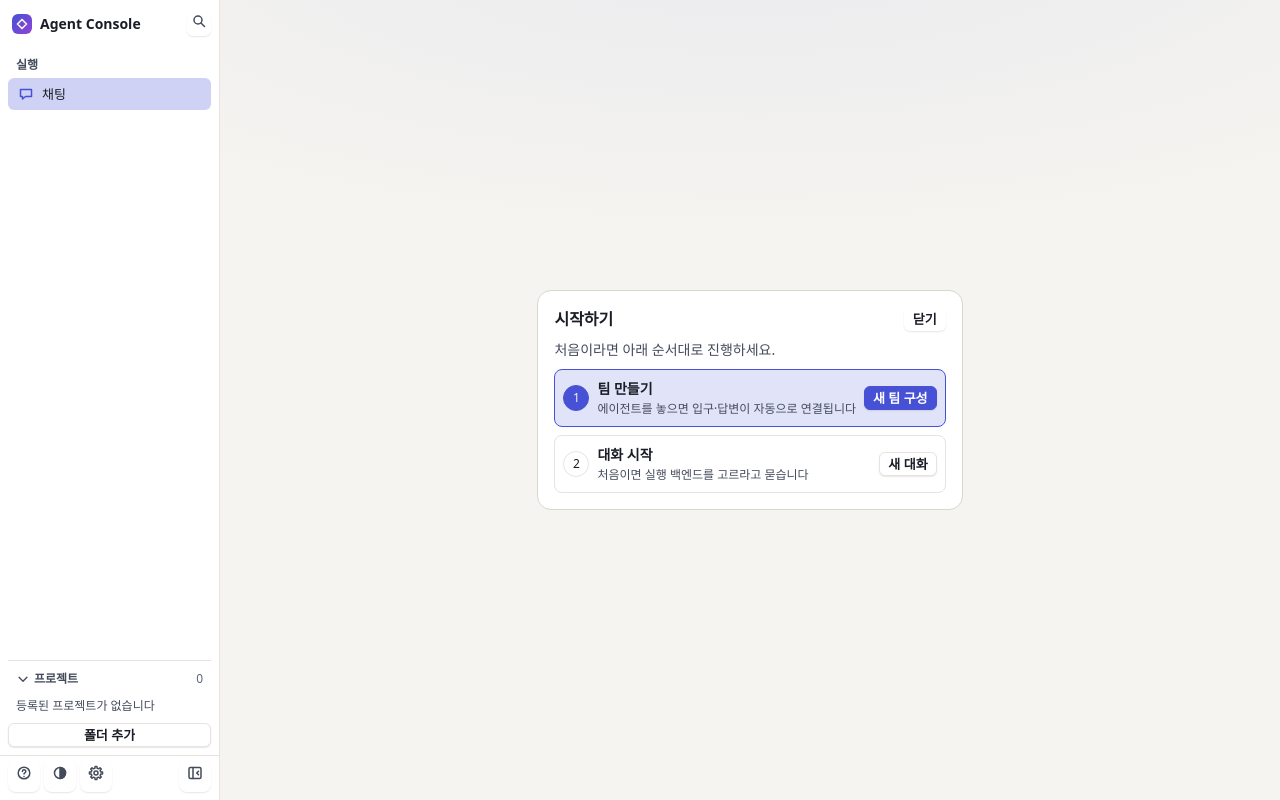
앱 안의 프로젝트 UI › 프로젝트 0개면 [폴더 추가]로 만들기 창이 열리고, 만들면 그 프로젝트로 전환한다
Click the button "폴더 추가" at (110,735), box [8,723,211,747]
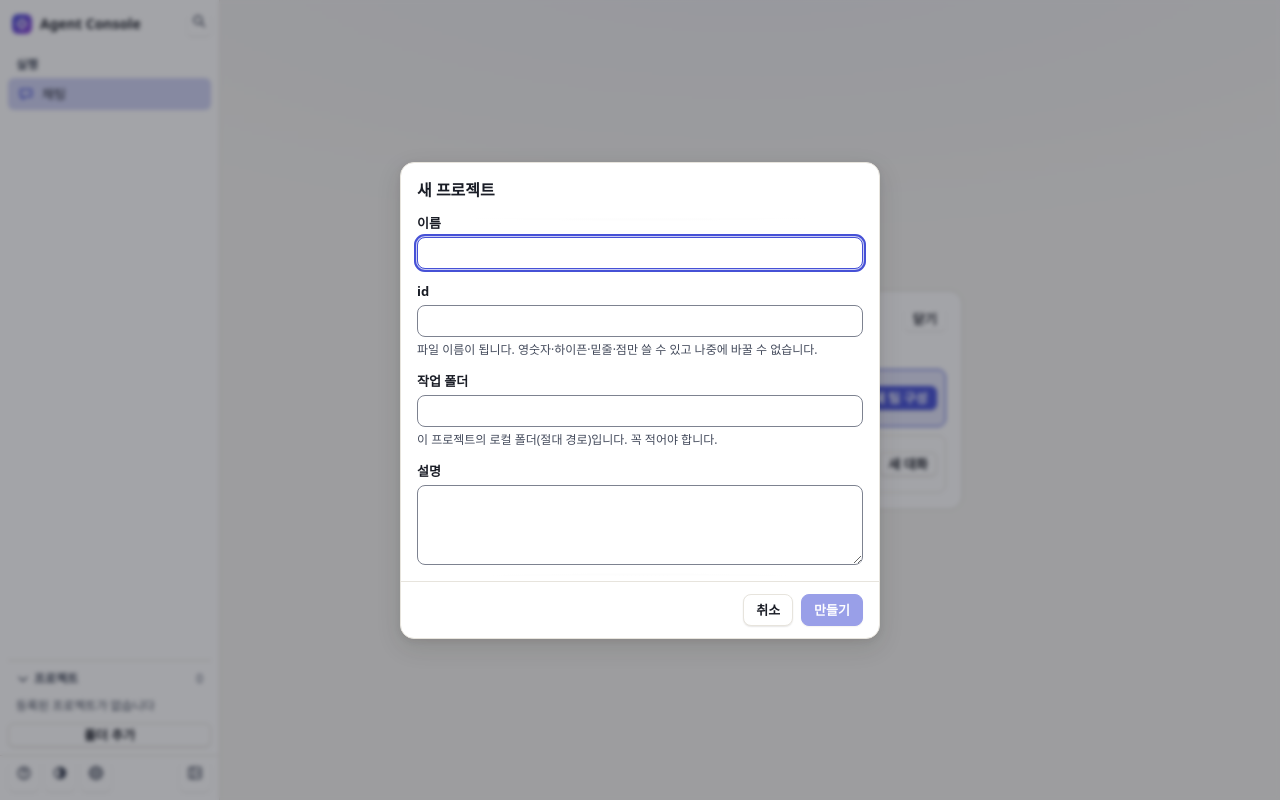
Type "새 앱" into the field labelled "이름" at (640,252), box [417,236,863,268]
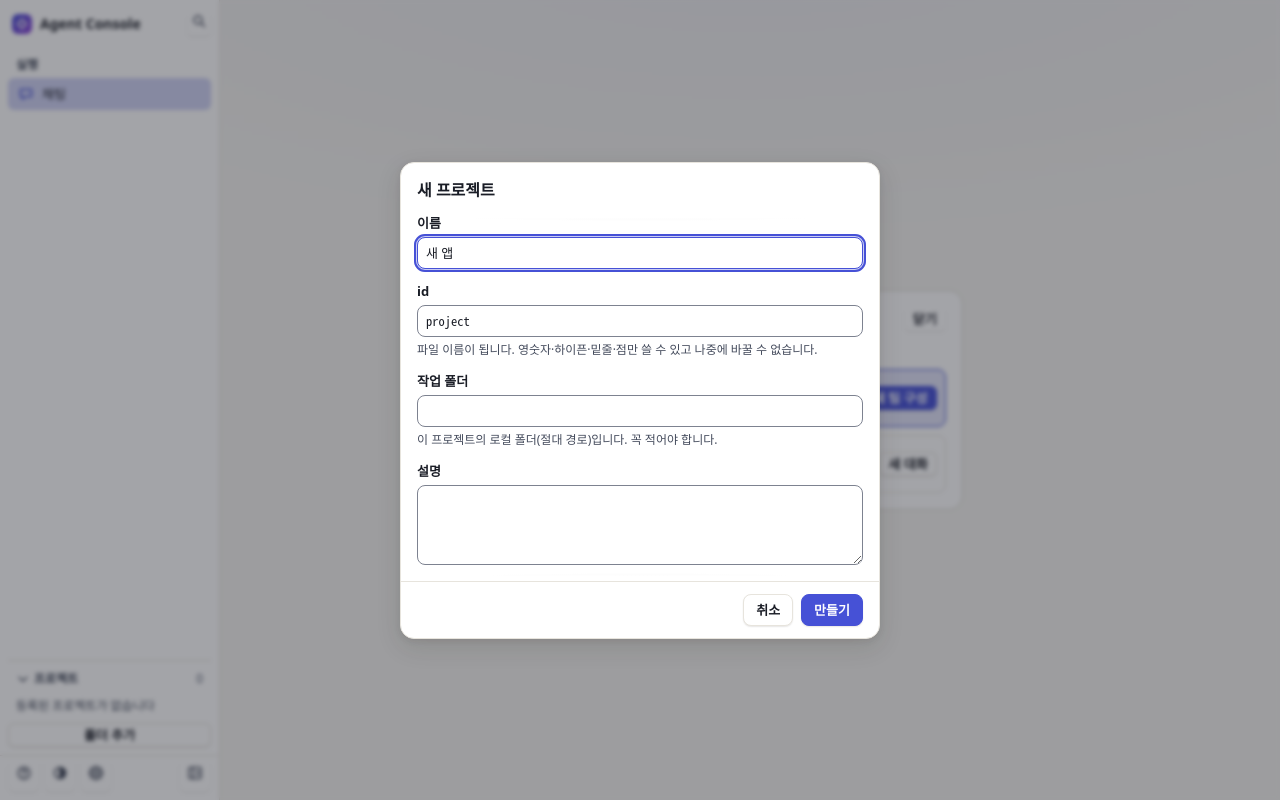
Click the button "만들기" at (832,610), box [801,594,863,626]
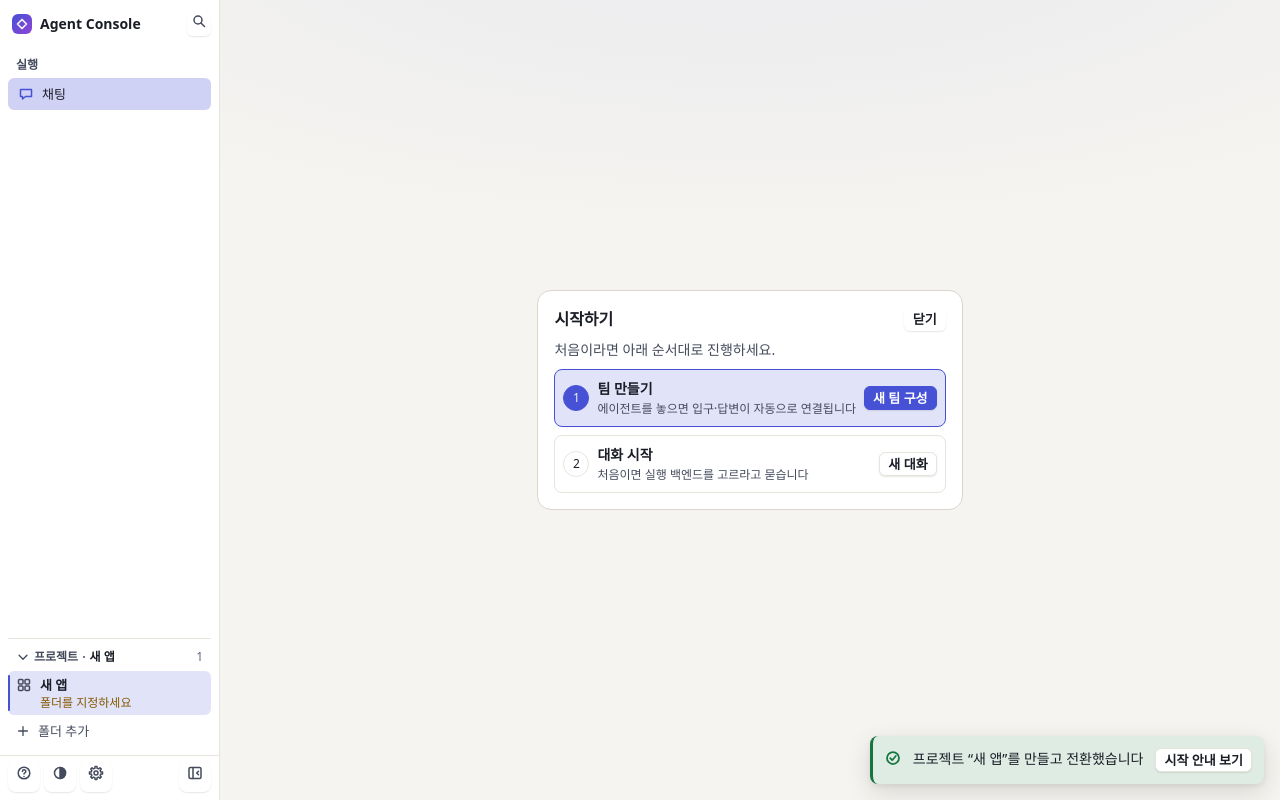
Result: the button "프로젝트 · 새 앱 1" is shown at [8,643,211,671]
